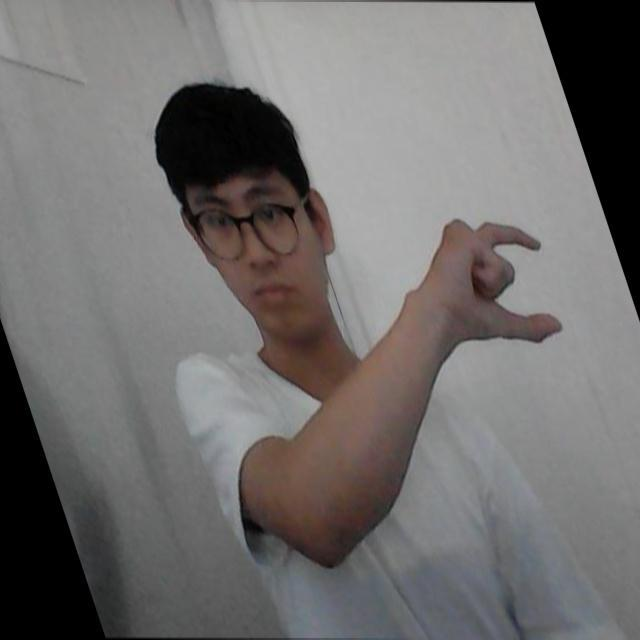C: (438, 212, 568, 352)
